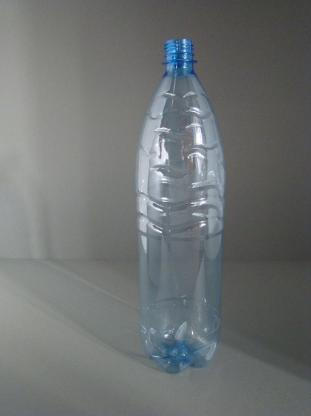Plastic Bottle: (127, 25, 234, 381)
